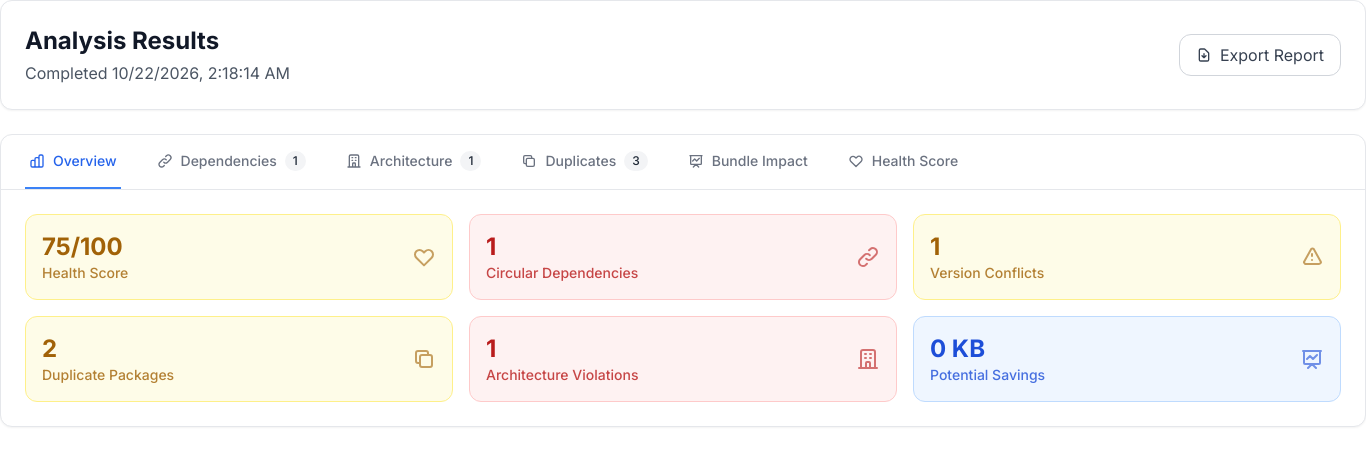
AnalysisResults › Empty States › [P1] should display empty state for missing bundle impact
Note: Bundle Impact tab is clicked
Step 1. Click the button "Bundle Impact" → (748, 162), box [684,135,812,189]
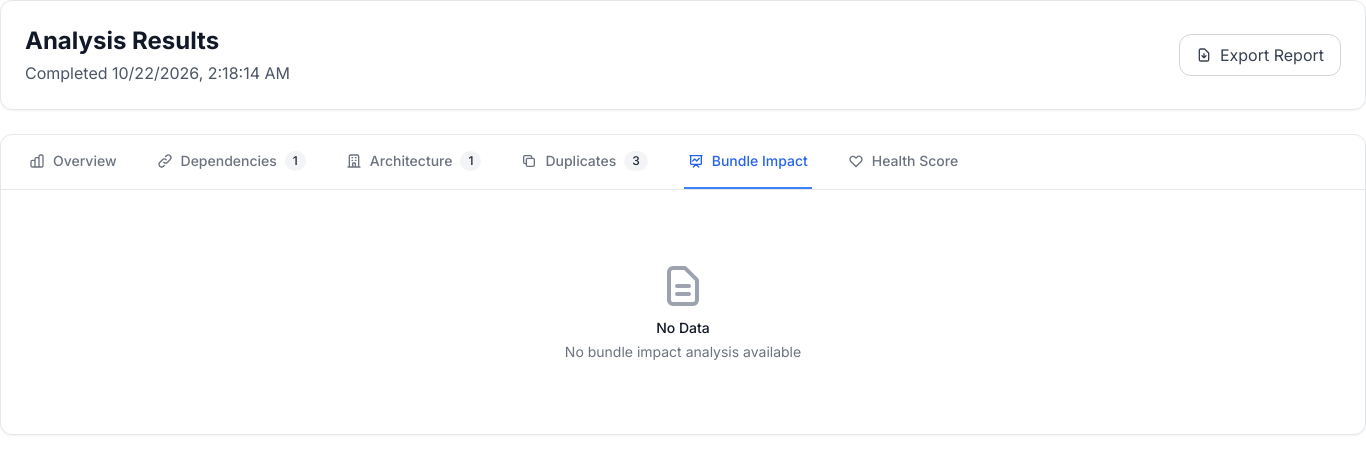
Now the text "No bundle impact analysis available" is shown, box [565,343,801,360]
